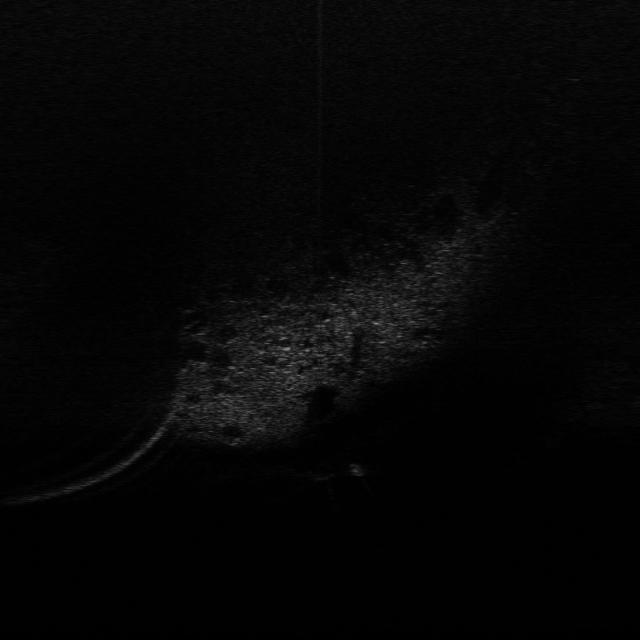cube: (304, 465, 337, 484)
cylinder: (346, 460, 368, 479)
